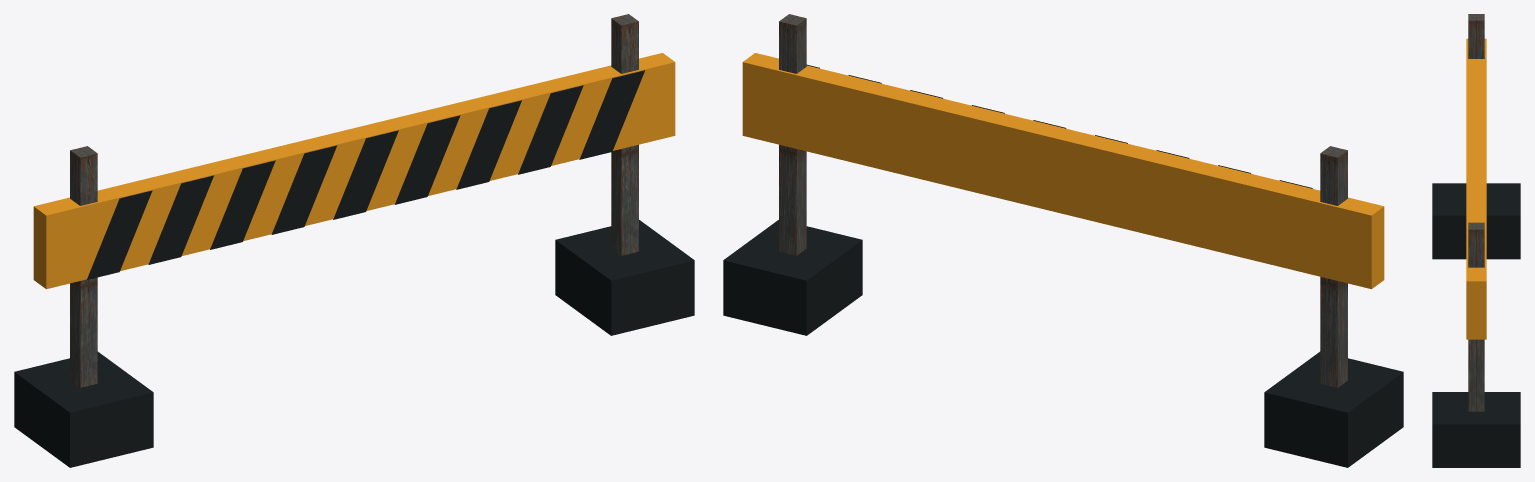
The model's file is SafetyBarrier.obj.
3 renders of one model, left to right at view 1: azimuth 30°, elevation 25°; view 2: azimuth 150°, elevation 25°; view 3: azimuth 270°, elevation 25°, orthographic. The views are drawn at different scales.
Visible parts, largest first — view 1: SafetyBarrier; view 2: SafetyBarrier; view 3: SafetyBarrier.
Part boxes in pixels (bbox=[...]): SafetyBarrier: bbox=[14, 14, 694, 467]; SafetyBarrier: bbox=[723, 14, 1403, 467]; SafetyBarrier: bbox=[1432, 14, 1520, 467].
Size of the model in its own units: 2.86 by 1.24 by 0.44.
Materials: 3 (1 with a texture image).
